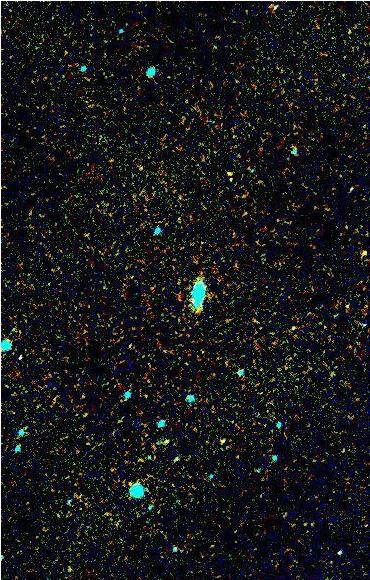star: (351, 236, 370, 266)
